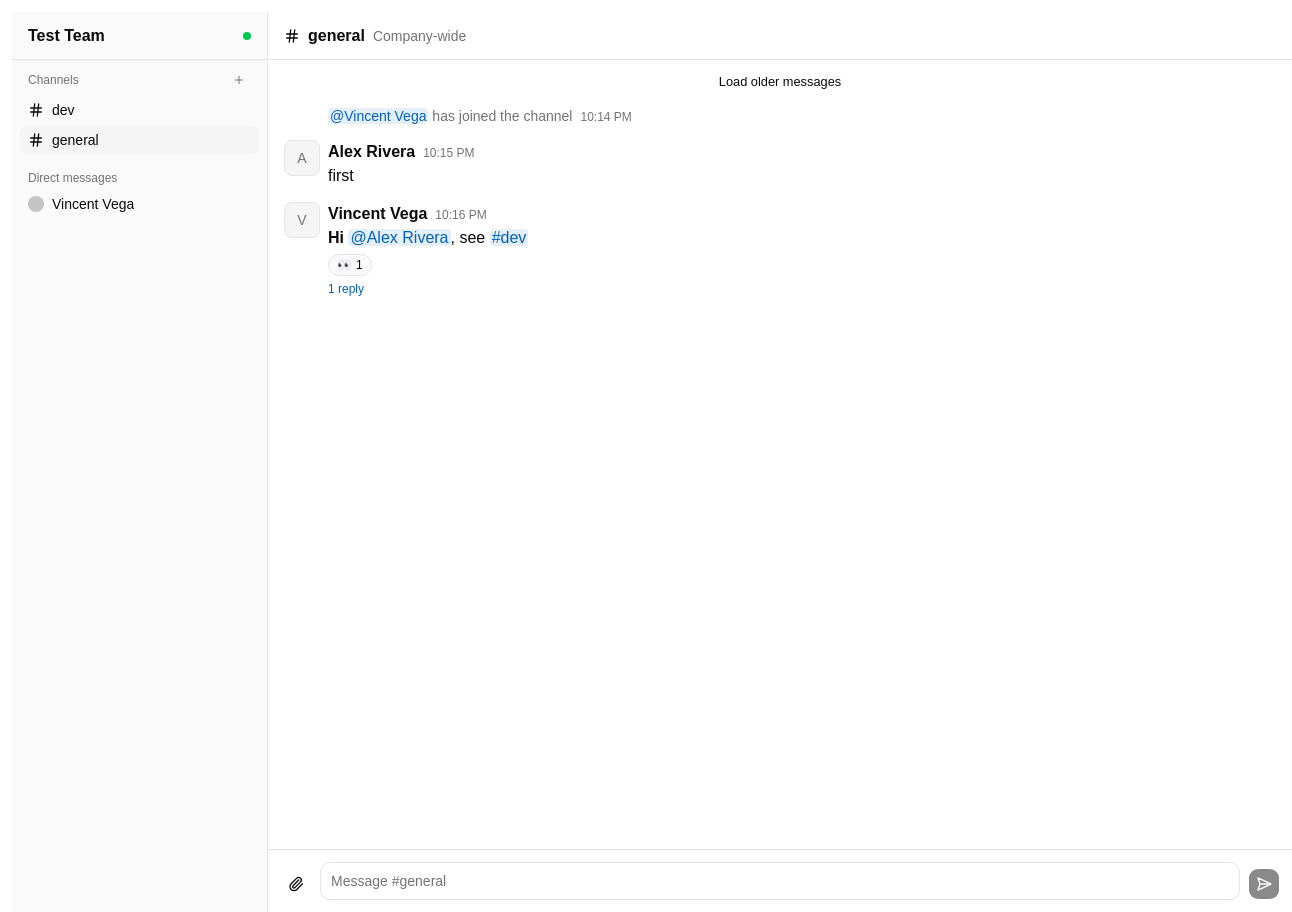
it: App › opens a thread, replies in it and closes it
This screenshot has width=1292, height=912.
Expected: the heading "general" is shown, [308,24,365,48]
Click the button "1 reply".
click(346, 289)  # box [328,281,364,297]
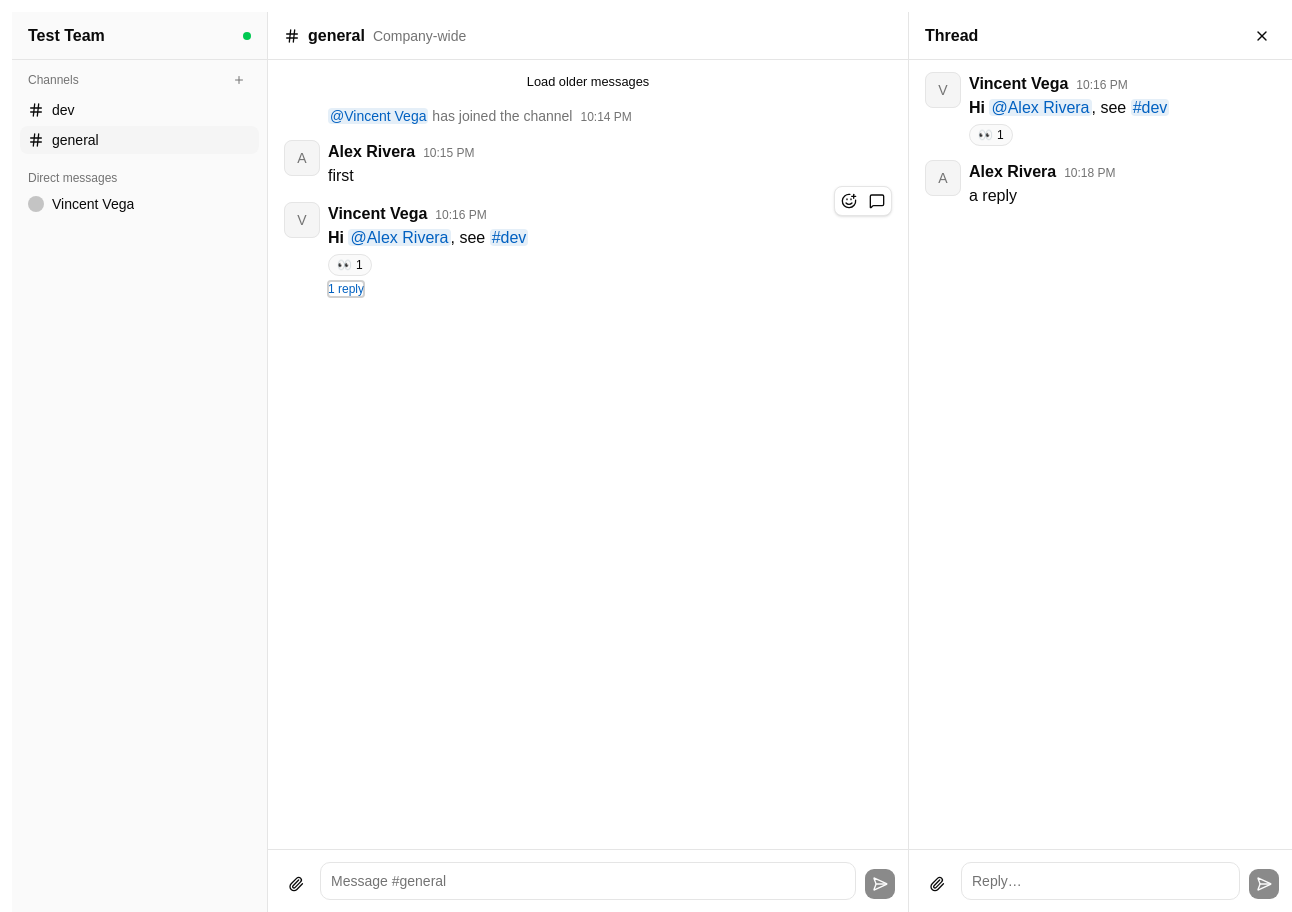
Expected: the text "a reply" is shown, [969,187,1017,204]
Type "in thread" into the text box labelled "Reply…".
click(1100, 881); type("in thread")  # box [961,862,1240,900]
Then press Enter
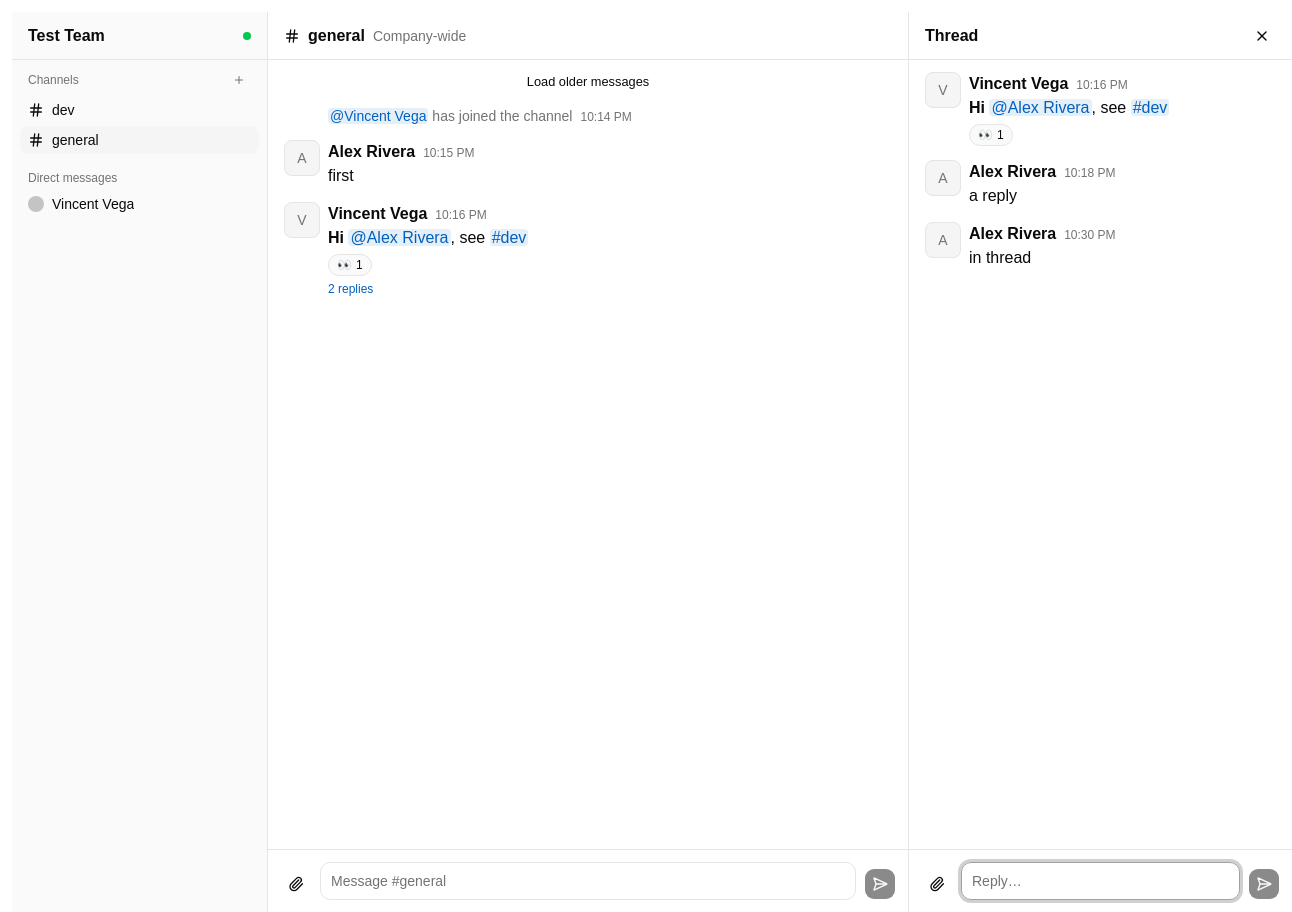
Expected: the text "in thread" is shown, [969,249,1031,266]
Click the button named "Close thread".
click(1262, 36)  # box [1248,22,1276,50]
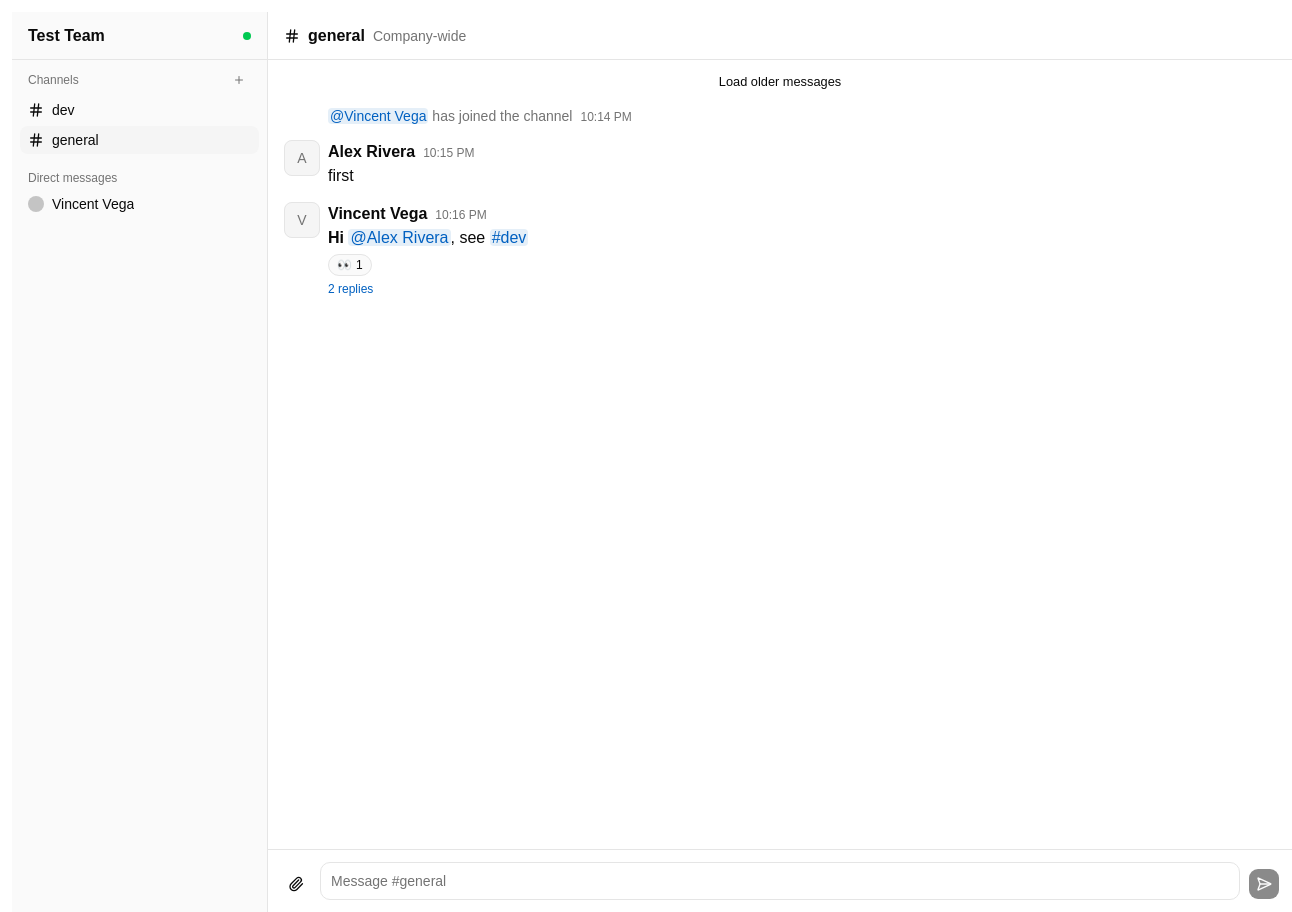
Expected: the heading "Thread" is gone
